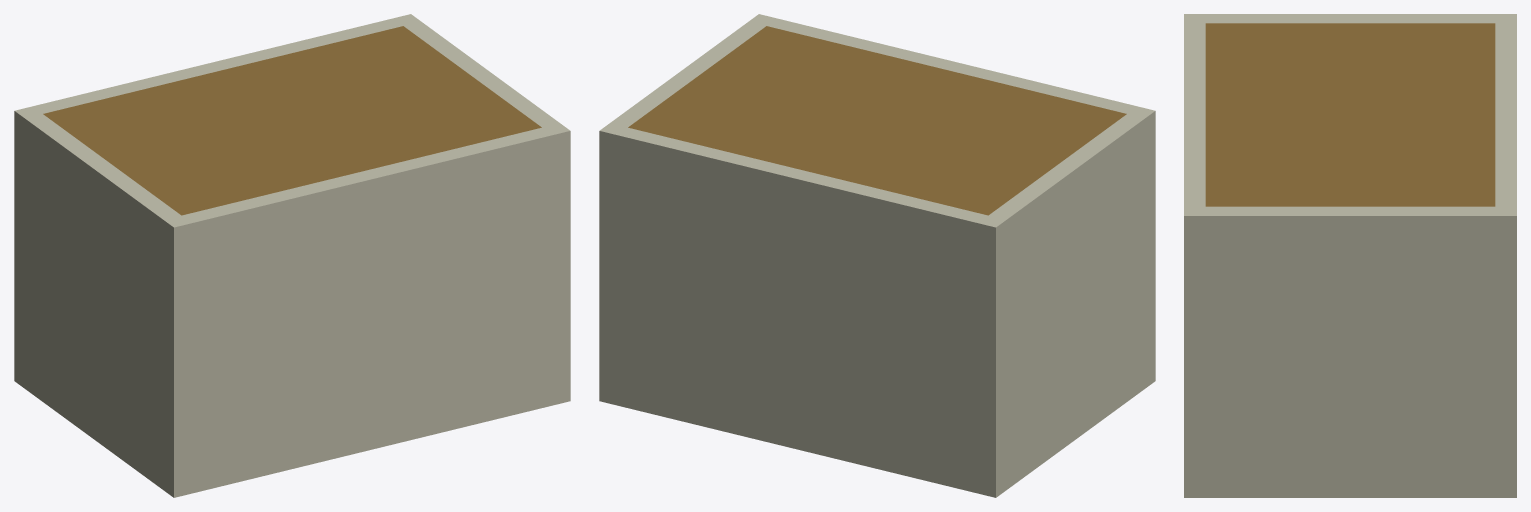
Rendered from Basement.fbx.
3 views of the same model, side by side, from view 1: azimuth 30°, elevation 25°; view 2: azimuth 150°, elevation 25°; view 3: azimuth 270°, elevation 25° (orthographic). The views are drawn at different scales.
Visible parts, largest first — view 1: Cube.001, Cube.002; view 2: Cube.001, Cube.002; view 3: Cube.001, Cube.002.
Boxes of the visible parts, <box> form: Cube.001: <box>14,14,570,497</box>; Cube.002: <box>43,26,541,215</box>; Cube.001: <box>599,14,1155,497</box>; Cube.002: <box>628,26,1126,215</box>; Cube.001: <box>1184,14,1516,497</box>; Cube.002: <box>1205,23,1495,206</box>.
Size of the model in its own units: 660 by 430 by 460.
